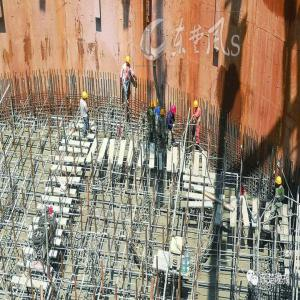red: (171, 106, 177, 116)
yellow: (276, 177, 283, 190), (151, 101, 157, 111), (126, 57, 132, 67), (83, 92, 89, 101), (194, 101, 199, 110), (161, 110, 166, 119)
